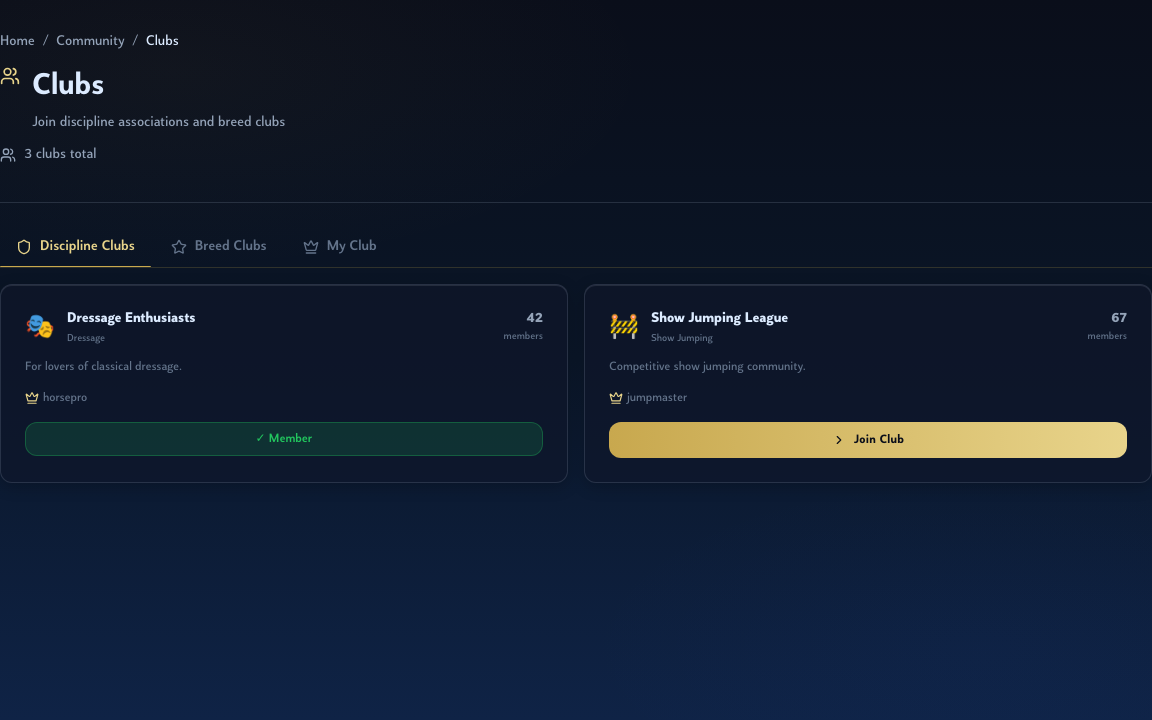
Scenario: ClubsPage › switches to My Club tab and shows create club toggle
Click the tab with test id "tab-my-club".
click(340, 247)  # box [287,227,393,267]
(page scrolled)
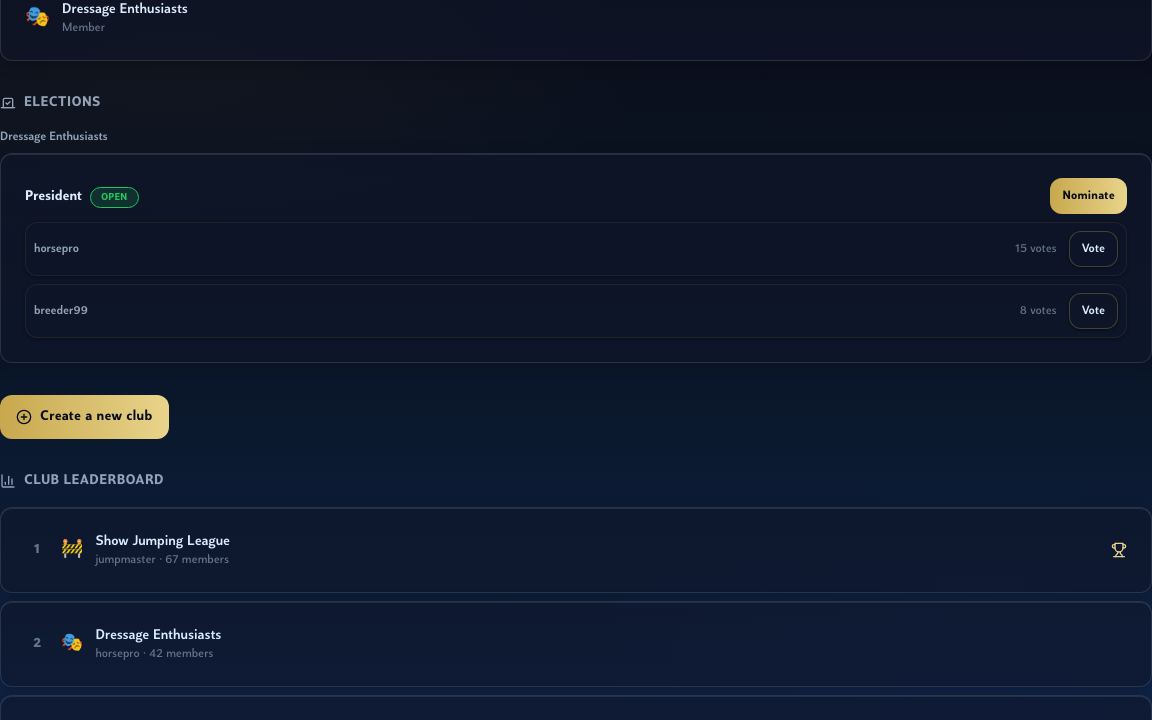
Now the button with test id "create-club-toggle" is shown, box [0,395,168,439]
